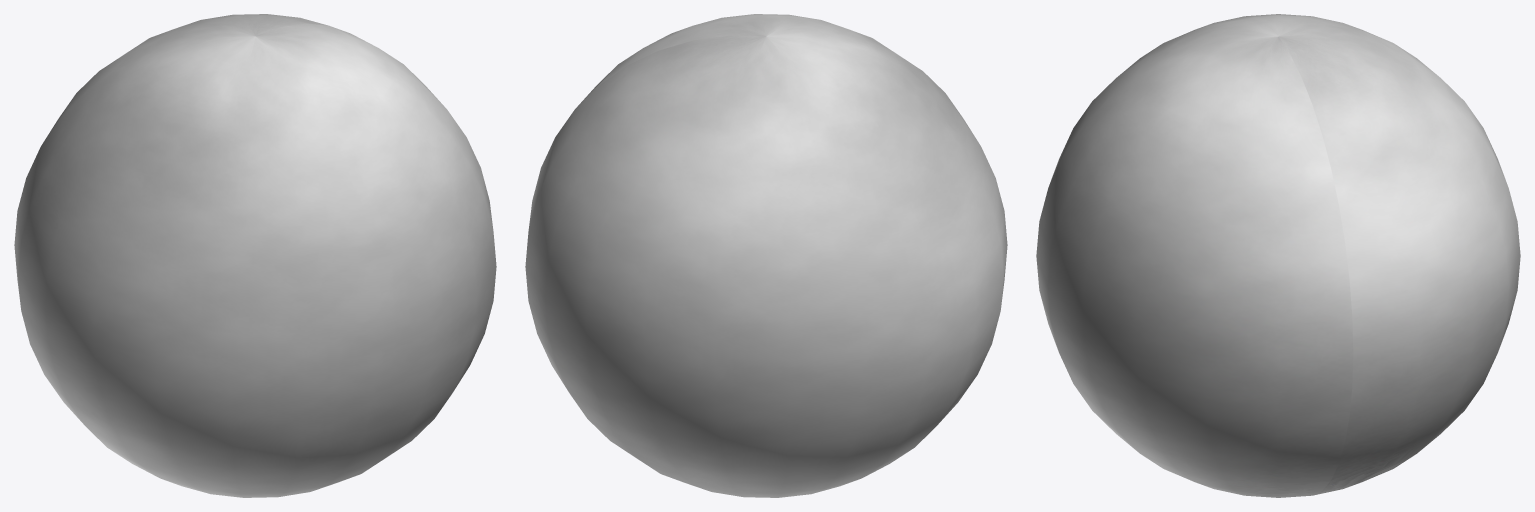
The model's file is earth.fbx.
The picture shows the model from 3 angles, left to right: view 1: azimuth 30°, elevation 25°; view 2: azimuth 150°, elevation 25°; view 3: azimuth 270°, elevation 25°; orthographic projection.
Parts seen in each view (by area): view 1: pSphere1; view 2: pSphere1; view 3: pSphere1.
Part boxes in pixels (box(x1,y1,x2,y2)): pSphere1: box(14, 14, 496, 497); pSphere1: box(525, 14, 1007, 497); pSphere1: box(1036, 14, 1520, 497).
Size of the model in its own units: 41 by 41 by 41.
Materials: 2 (2 with a texture image).
